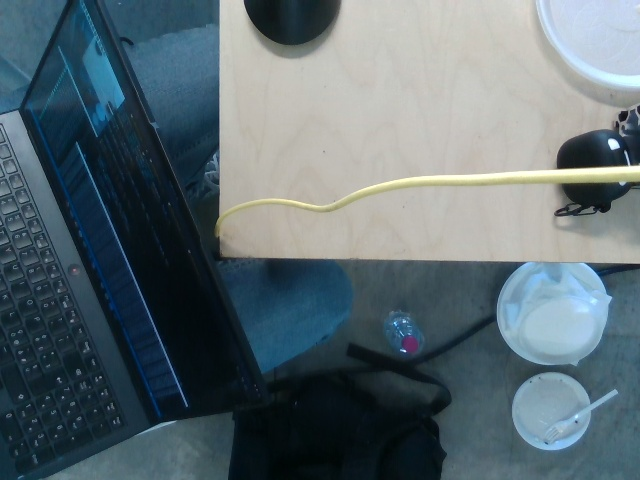cube_hackaton: (553, 124, 630, 217)
